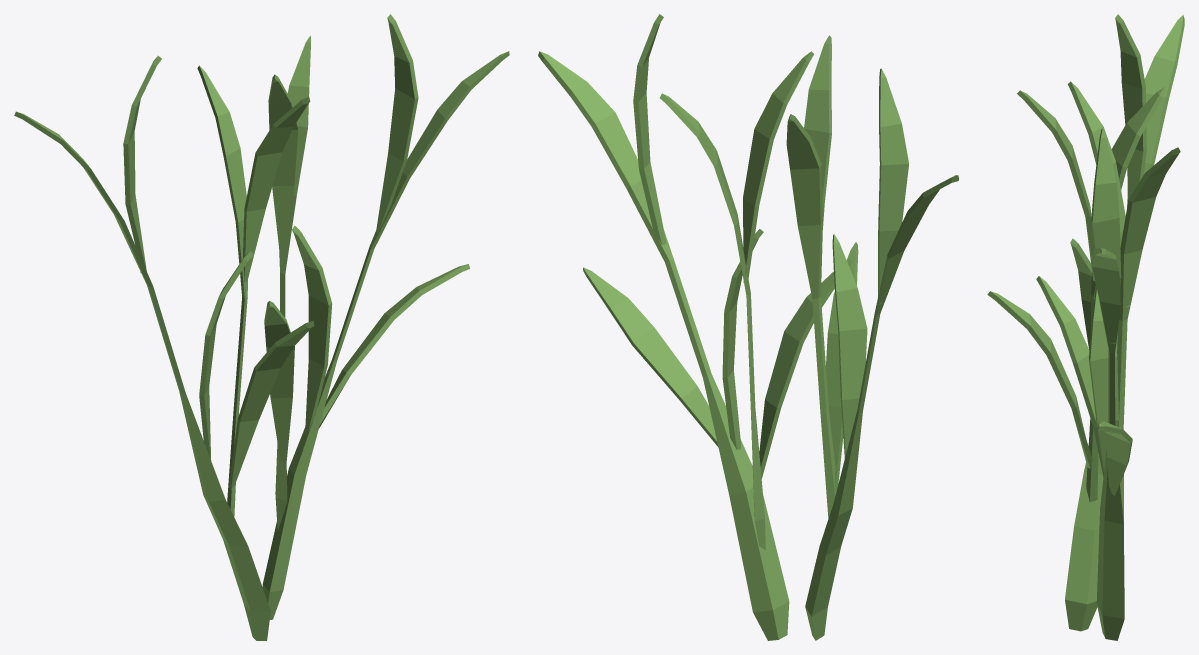
The model's file is rice_3.glb.
The picture shows the model from 3 angles, left to right: view 1: azimuth 30°, elevation 25°; view 2: azimuth 150°, elevation 25°; view 3: azimuth 270°, elevation 25°; orthographic projection. The views are drawn at different scales.
Parts seen in each view (by area): view 1: Rice_3; view 2: Rice_3; view 3: Rice_3.
Part boxes in pixels (<box>): Rice_3: <box>14,14,509,640</box>; Rice_3: <box>538,14,958,640</box>; Rice_3: <box>987,14,1184,640</box>.
Size of the model in its own units: 0.6186 by 0.7691 by 0.2384.
